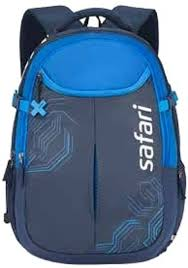backpack: (2, 4, 186, 264)
